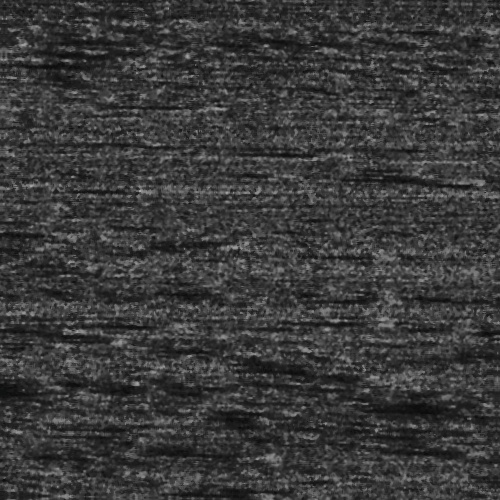object: (431, 173, 494, 178), (193, 104, 224, 107)
shadow: (366, 173, 462, 178), (86, 104, 208, 107)
